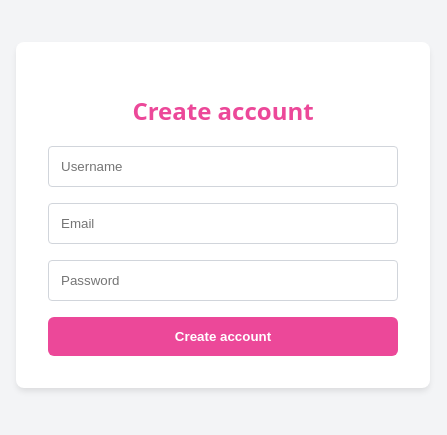
Test: RegisterForm › should submit form successfully and show success message
In the field with placeholder "Username": (223, 167) x1=48 y1=146 x2=398 y2=187, type "testuser"
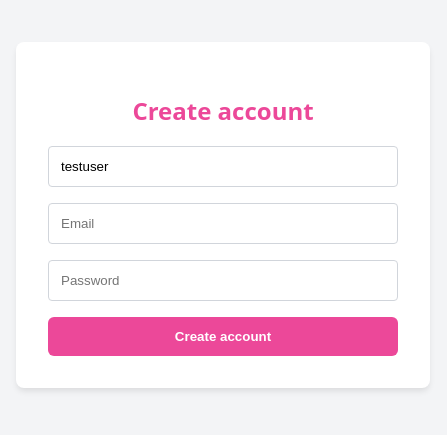
In the field with placeholder "Email": (223, 224) x1=48 y1=203 x2=398 y2=244, type "test@example.com"
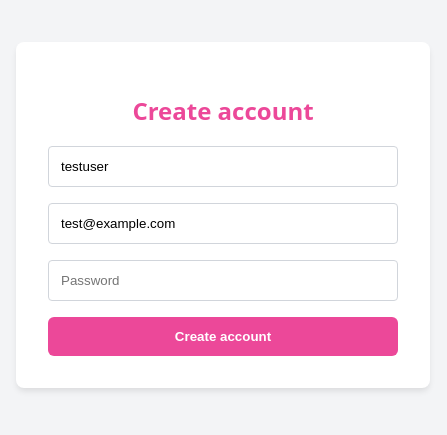
In the password field with placeholder "Password": (223, 281) x1=48 y1=260 x2=398 y2=301, type "password123"
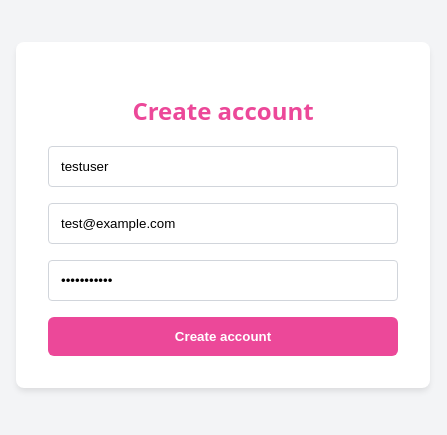
Click the button "Create account": (223, 337) x1=48 y1=317 x2=398 y2=356
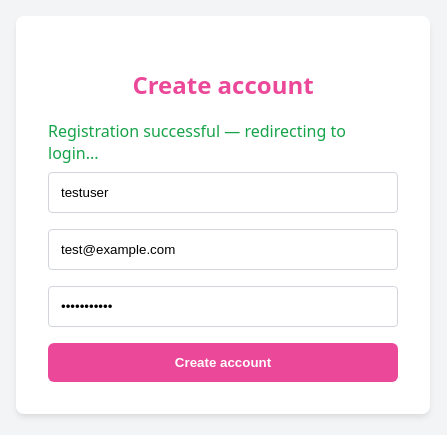
Expected: the text "Registration successful — redirecting to login..." is shown, x1=48 y1=120 x2=398 y2=164
